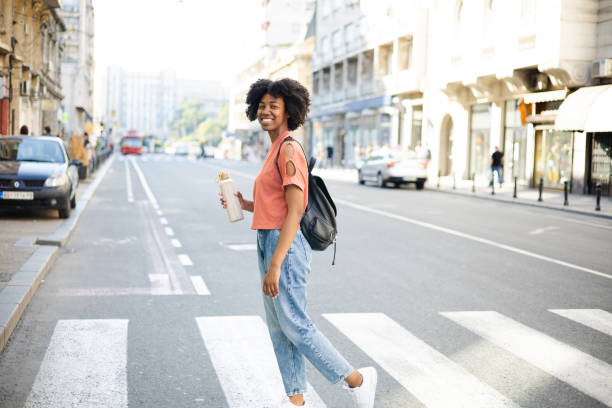otomobil: (0, 91, 78, 224), (353, 137, 450, 214)
yaya: (195, 67, 409, 407)
